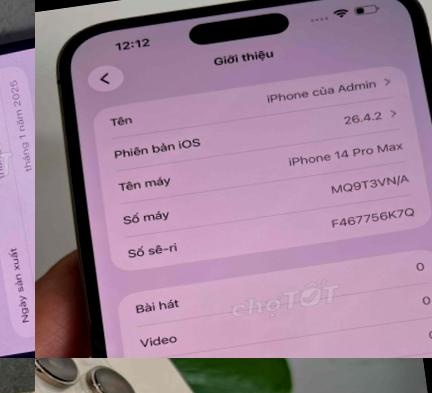scratch: (87, 378, 109, 393), (35, 358, 46, 371)
